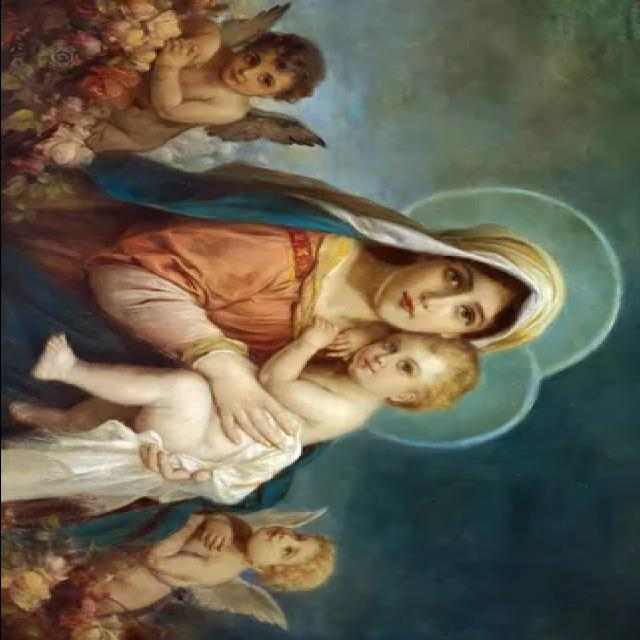mother of god: (5, 167, 571, 514)
